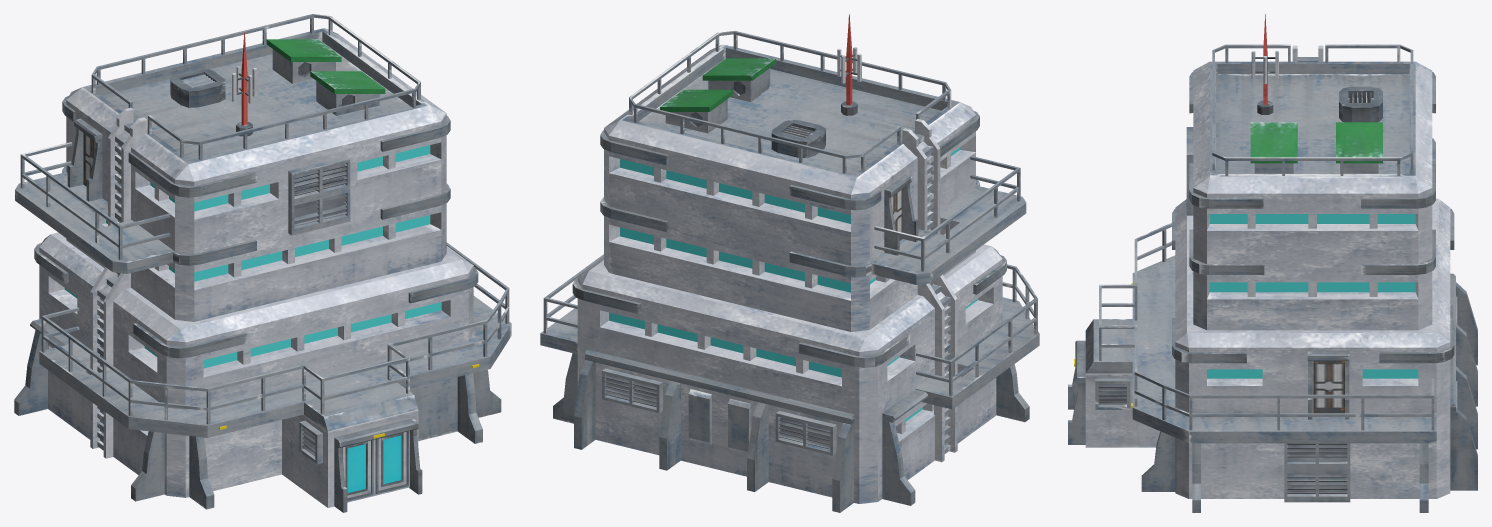
The model's file is EdificioValle1.obj.
3 views of the same model, side by side, from view 1: azimuth 30°, elevation 25°; view 2: azimuth 150°, elevation 25°; view 3: azimuth 270°, elevation 25° (orthographic). The views are drawn at different scales.
Visible parts, largest first — view 1: Cube.041_Cube.100; view 2: Cube.041_Cube.100; view 3: Cube.041_Cube.100.
Boxes of the visible parts, x1=… form: Cube.041_Cube.100: x1=14, y1=14, x2=511, y2=512; Cube.041_Cube.100: x1=540, y1=14, x2=1039, y2=512; Cube.041_Cube.100: x1=1068, y1=14, x2=1477, y2=512.
Size of the model in its own units: 4.15 by 4.19 by 3.94.
2 materials, 2 textured.
